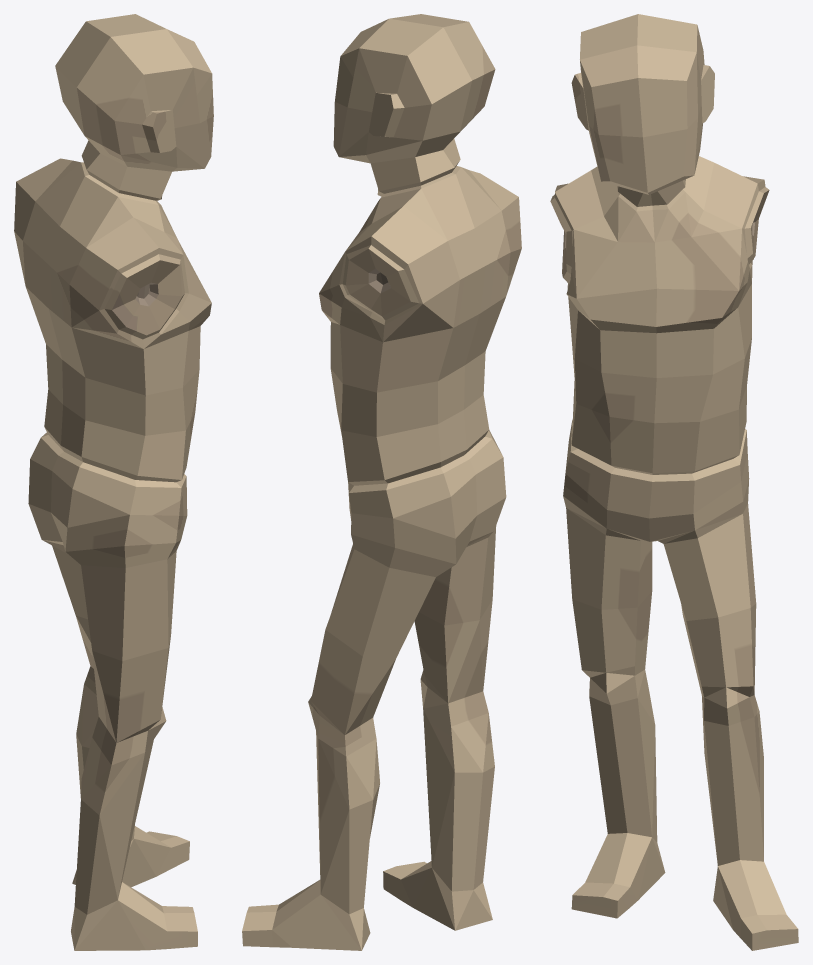
File: apoc_SM_Prop_Mannequin_Male_05.gltf
3 renders of one model, left to right at view 1: azimuth 30°, elevation 25°; view 2: azimuth 150°, elevation 25°; view 3: azimuth 270°, elevation 25°, orthographic. The views are drawn at different scales.
Visible parts, largest first — view 1: SM_Prop_Mannequin_Male_05; view 2: SM_Prop_Mannequin_Male_05; view 3: SM_Prop_Mannequin_Male_05.
Part boxes in pixels (x1=…): SM_Prop_Mannequin_Male_05: x1=14, y1=14, x2=213, y2=950; SM_Prop_Mannequin_Male_05: x1=242, y1=14, x2=521, y2=950; SM_Prop_Mannequin_Male_05: x1=550, y1=14, x2=798, y2=950.
Bounding box in the file's own units: 0.3989 × 1.78 × 0.4587.
Materials: 1 (1 with a texture image).
